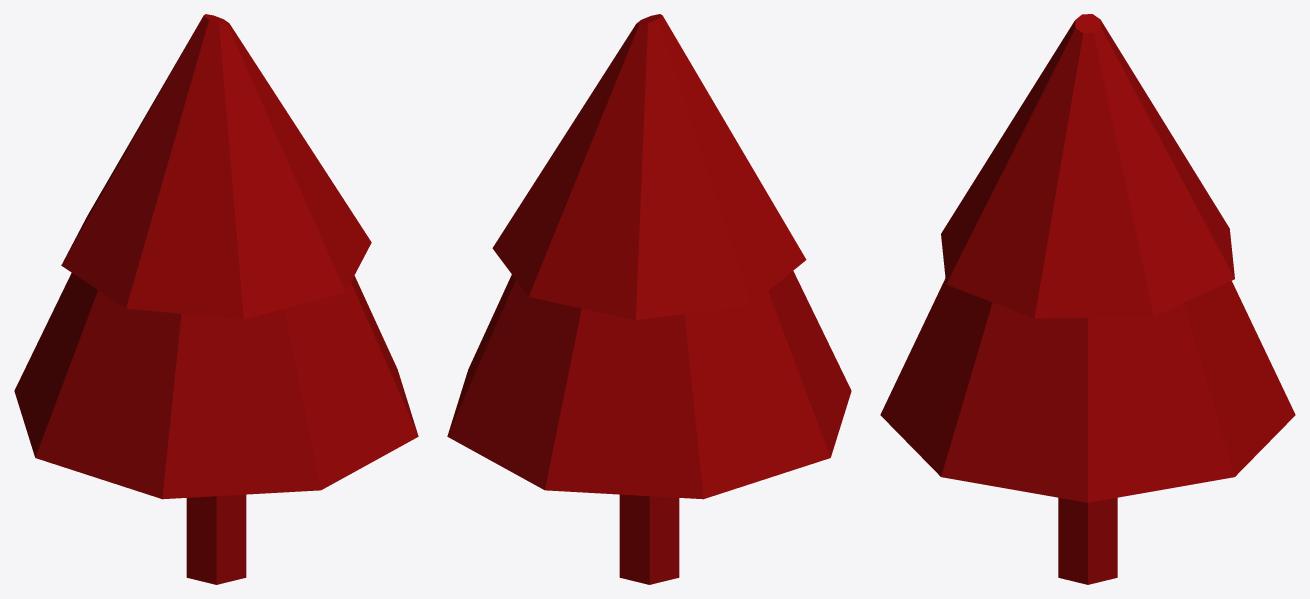
The model's file is SM_SmallSpruce.fbx.
The picture shows the model from 3 angles, left to right: view 1: azimuth 30°, elevation 25°; view 2: azimuth 150°, elevation 25°; view 3: azimuth 270°, elevation 25°; orthographic projection.
Parts seen in each view (by area): view 1: Small_Spruce; view 2: Small_Spruce; view 3: Small_Spruce.
Part boxes in pixels (x1=…): Small_Spruce: x1=14, y1=14, x2=418, y2=584; Small_Spruce: x1=447, y1=14, x2=851, y2=584; Small_Spruce: x1=880, y1=14, x2=1295, y2=584.
Size of the model in its own units: 33.49 by 49.03 by 33.49.
